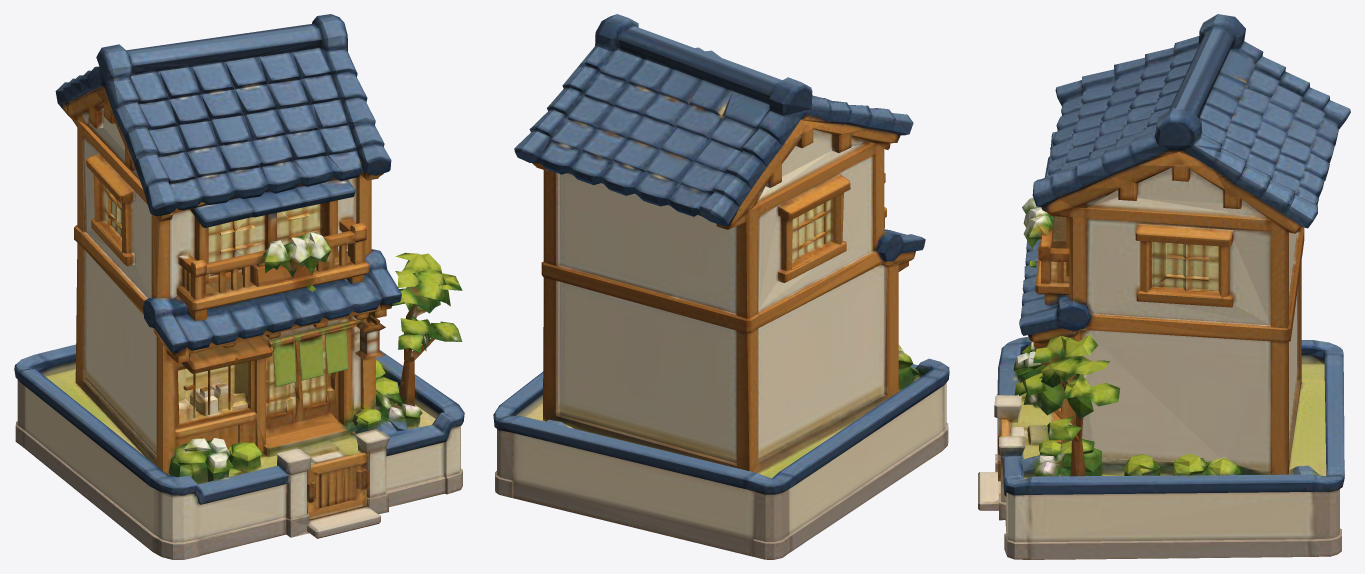
The model's file is house-DLbSePPe.glb.
The picture shows the model from 3 angles, left to right: view 1: azimuth 30°, elevation 25°; view 2: azimuth 150°, elevation 25°; view 3: azimuth 270°, elevation 25°; orthographic projection.
Parts seen in each view (by area): view 1: tripo_node_f8b7eb5a-e85b-4f87-9da2-066cc3dfe73a; view 2: tripo_node_f8b7eb5a-e85b-4f87-9da2-066cc3dfe73a; view 3: tripo_node_f8b7eb5a-e85b-4f87-9da2-066cc3dfe73a.
Part boxes in pixels (x1,y1,x2,y2): tripo_node_f8b7eb5a-e85b-4f87-9da2-066cc3dfe73a: [14, 14, 464, 559]; tripo_node_f8b7eb5a-e85b-4f87-9da2-066cc3dfe73a: [493, 14, 949, 559]; tripo_node_f8b7eb5a-e85b-4f87-9da2-066cc3dfe73a: [978, 14, 1350, 559].
Bounding box in the file's own units: 0.8051 × 0.9773 × 0.7822.
1 material, 1 textured.
